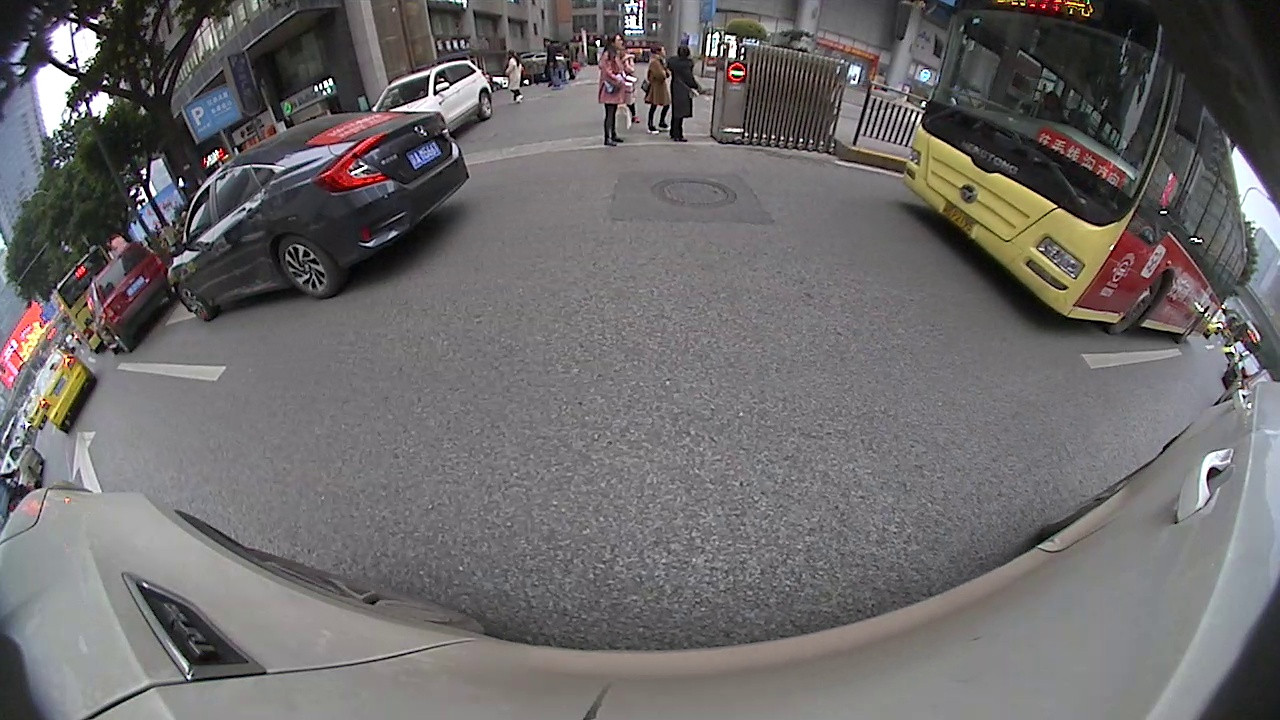car: (123, 55, 564, 308), (1029, 215, 1162, 349), (364, 33, 546, 117), (903, 139, 1043, 230), (719, 85, 875, 151), (49, 248, 128, 334), (1192, 378, 1258, 467), (598, 70, 707, 109), (533, 65, 607, 110)
front: (336, 200, 428, 291), (948, 174, 977, 204), (742, 110, 768, 133)
rear: (157, 253, 208, 306), (1104, 311, 1130, 338)
